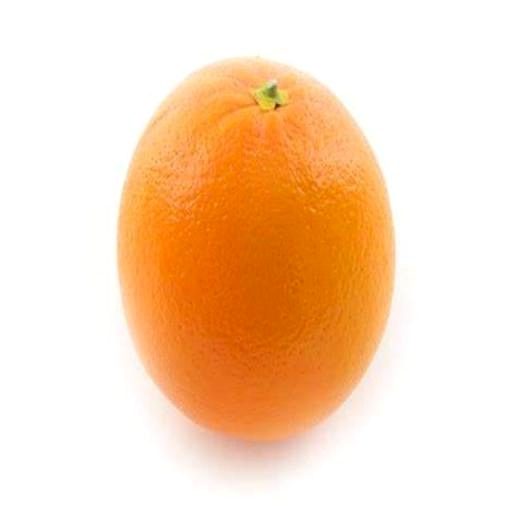fruit: (118, 59, 393, 439)
